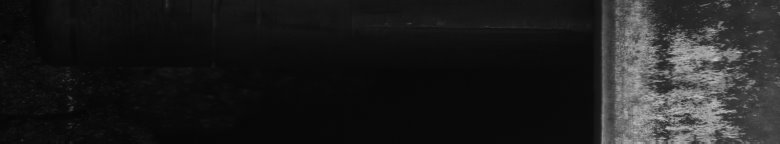kb: (615, 4, 767, 136)
